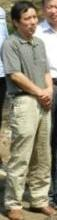boots: (5, 208, 23, 219), (0, 199, 11, 213)
